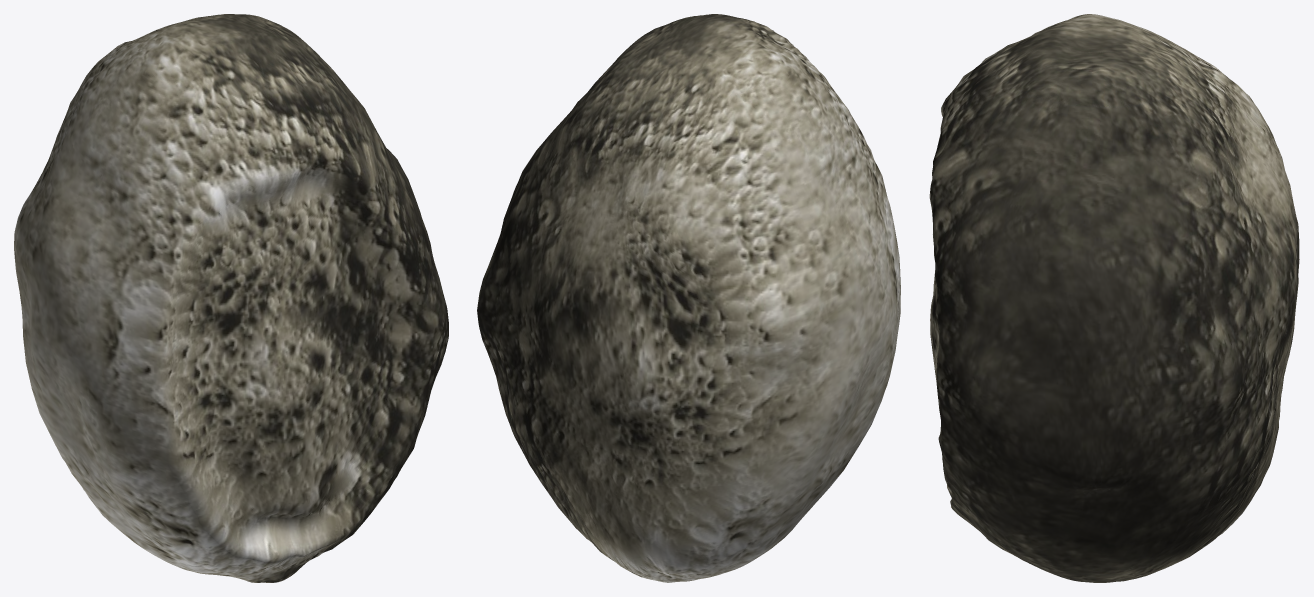
Rendered from moonhyperion.glb.
The picture shows the model from 3 angles, left to right: view 1: azimuth 30°, elevation 25°; view 2: azimuth 150°, elevation 25°; view 3: azimuth 270°, elevation 25°; orthographic projection. The views are drawn at different scales.
Visible parts, largest first — view 1: Hyperion; view 2: Hyperion; view 3: Hyperion.
Part boxes in pixels (left/top/right/bottom): Hyperion: left=14, top=14, right=448, bottom=582; Hyperion: left=477, top=14, right=900, bottom=582; Hyperion: left=929, top=14, right=1299, bottom=582.
Bounding box in the file's own units: 275 × 391 × 250.
1 material, 1 textured.
